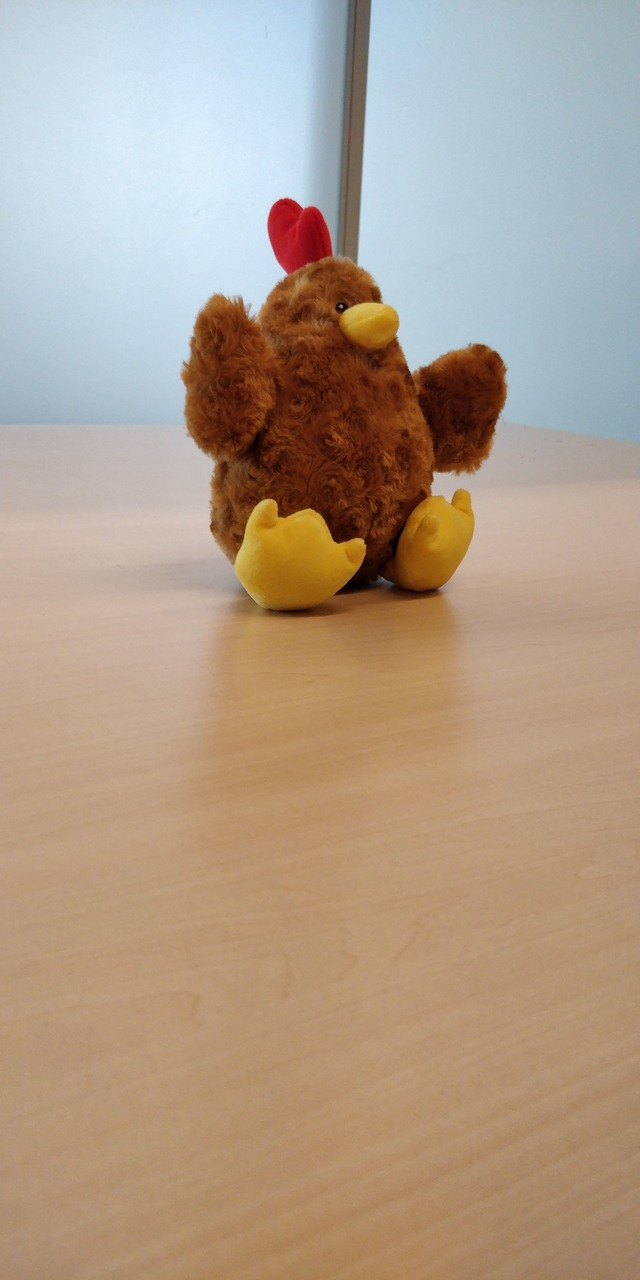fakeChicken: (181, 195, 513, 618)
